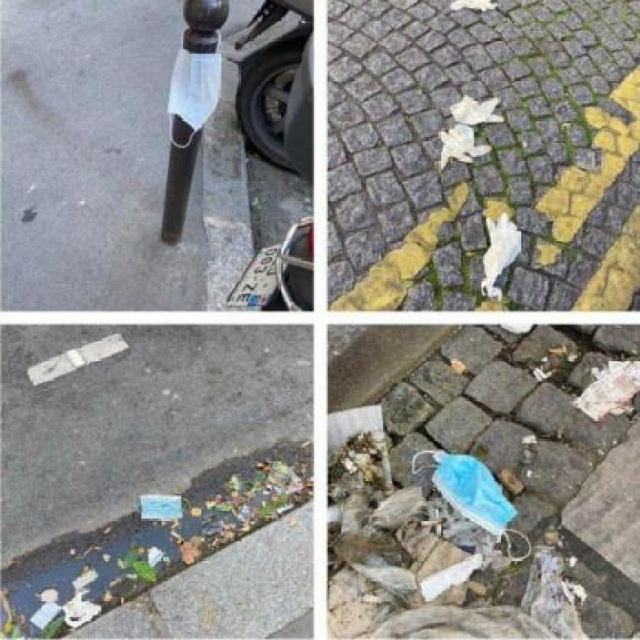garbage: (131, 454, 308, 532), (403, 442, 522, 542), (334, 423, 400, 566), (168, 28, 222, 150), (533, 539, 590, 640), (579, 354, 640, 416), (442, 99, 506, 156), (32, 582, 103, 626), (414, 565, 492, 599), (483, 213, 514, 293), (449, 0, 510, 12)
